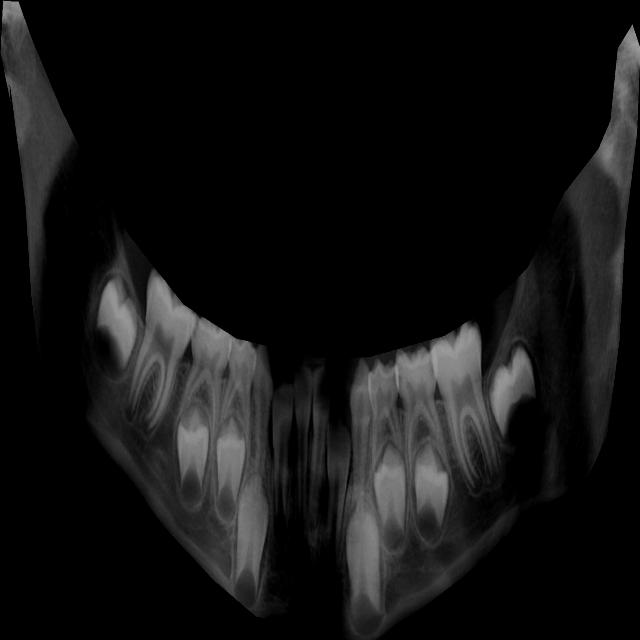mandibula: (0, 0, 640, 640)
